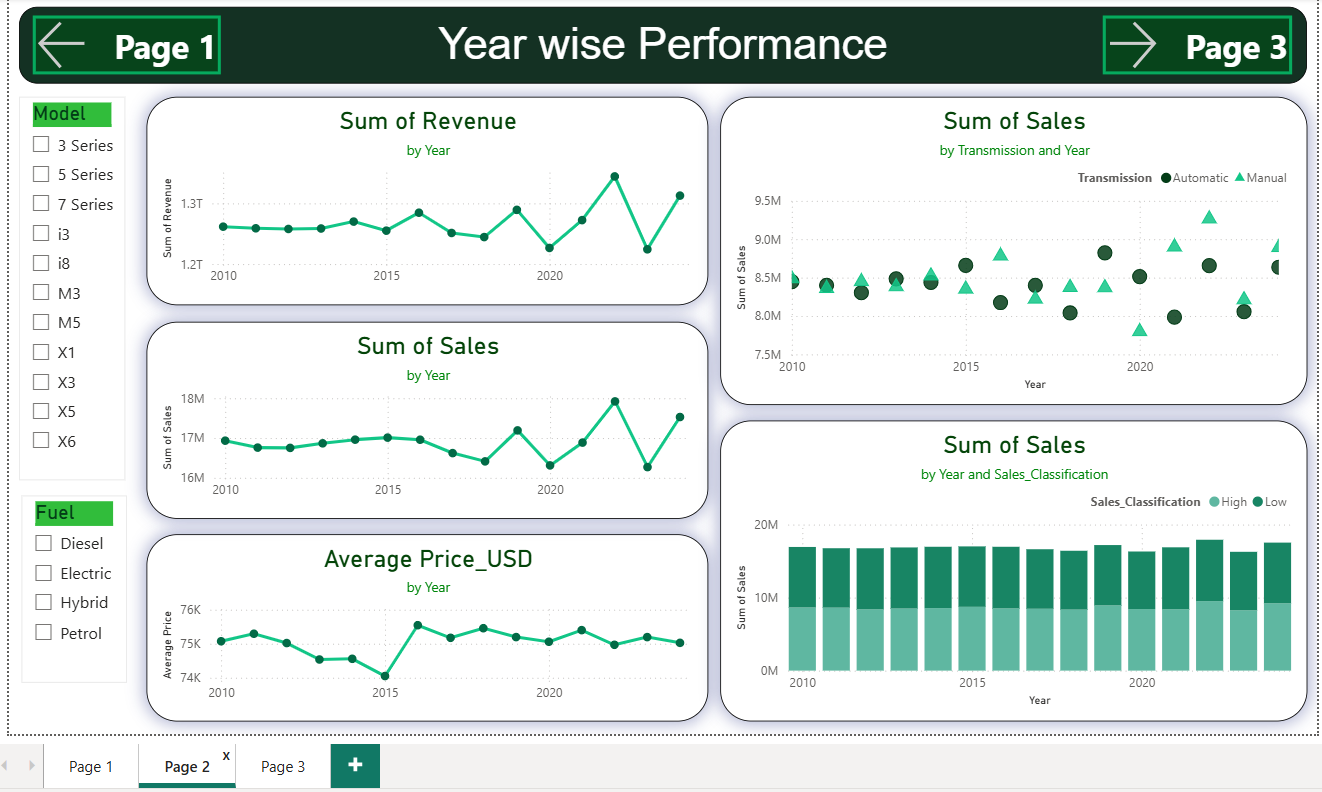

The dashboard page shown, as its layout file describes it:
{"tool":"powerbi","page":{"name":"Page 2","canvas":[1280,720],"ordinal":1},"visuals":[{"type":"slicer","fields":{"Values":["BMW sales data (2010-2024).Model"]},"box":[9.8,96.9,104.3,375.5],"z":0},{"type":"lineChart","fields":{"Category":["BMW sales data (2010-2024).Year"],"Y":["Sum(BMW sales data (2010-2024).Revenue)"]},"box":[135,96.9,549.7,203.7],"z":1000},{"type":"lineChart","title":"Average Price_USD","fields":{"Category":["BMW sales data (2010-2024).Year"],"Y":["Avg(BMW sales data (2010-2024).Price_USD)"]},"box":[135,525.2,549.7,182.8],"z":2000},{"type":"lineChart","title":"Sum of Sales","fields":{"Category":["BMW sales data (2010-2024).Year"],"Y":["Sum(BMW sales data (2010-2024).Sales_Volume)"]},"box":[135,316.6,549.7,192.6],"z":3000},{"type":"columnChart","title":"Sum of Sales","fields":{"Category":["BMW sales data (2010-2024).Year"],"Y":["Sum(BMW sales data (2010-2024).Sales_Volume)"],"Series":["BMW sales data (2010-2024).Sales_Classification"]},"box":[695.7,413.5,574.2,294.5],"z":4000},{"type":"scatterChart","title":"Sum of Sales","fields":{"X":["BMW sales data (2010-2024).Year"],"Series":["BMW sales data (2010-2024).Transmission"],"Y":["Sum(BMW sales data (2010-2024).Sales_Volume)"]},"box":[695.7,96.9,574.2,301.8],"z":5000},{"type":"slicer","fields":{"Values":["BMW sales data (2010-2024).Fuel_Type"]},"box":[12.3,487.1,103.1,182.8],"z":6000},{"type":"textbox","box":[9.8,8.6,1260.1,74.8],"z":7000},{"type":"actionButton","box":[23.3,17.2,184.1,57.7],"z":8000},{"type":"actionButton","box":[1069.9,17.2,185.3,57.7],"z":9000}]}

Visuals, with their boxes in screenshot pixels (x1, y1, x2, y2):
slicer - BMW sales data (2010-2024).Model: select_region(17, 92, 123, 474)
lineChart - BMW sales data (2010-2024).Year x Sum(BMW sales data (2010-2024).Revenue): select_region(144, 92, 704, 299)
"Average Price_USD" lineChart: select_region(144, 528, 704, 714)
"Sum of Sales" lineChart: select_region(144, 316, 704, 512)
"Sum of Sales" columnChart: select_region(715, 414, 1300, 714)
"Sum of Sales" scatterChart: select_region(715, 92, 1300, 399)
slicer - BMW sales data (2010-2024).Fuel_Type: select_region(19, 489, 124, 675)
textbox: select_region(17, 2, 1300, 78)
actionButton: select_region(31, 11, 218, 69)
actionButton: select_region(1097, 11, 1285, 69)
